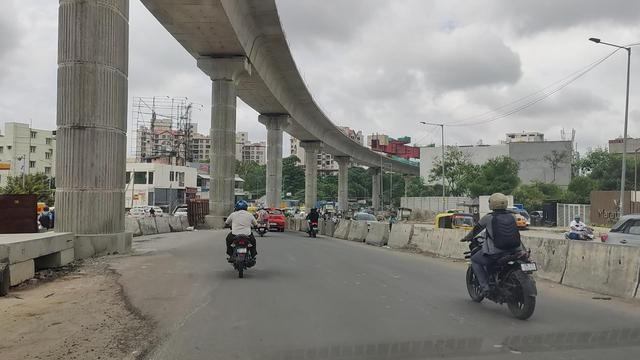LMV: (462, 192, 539, 318), (223, 199, 258, 276), (307, 206, 321, 241)
RoadDamages: (95, 258, 165, 360)
UnsurfacedRoad: (0, 275, 88, 360)
